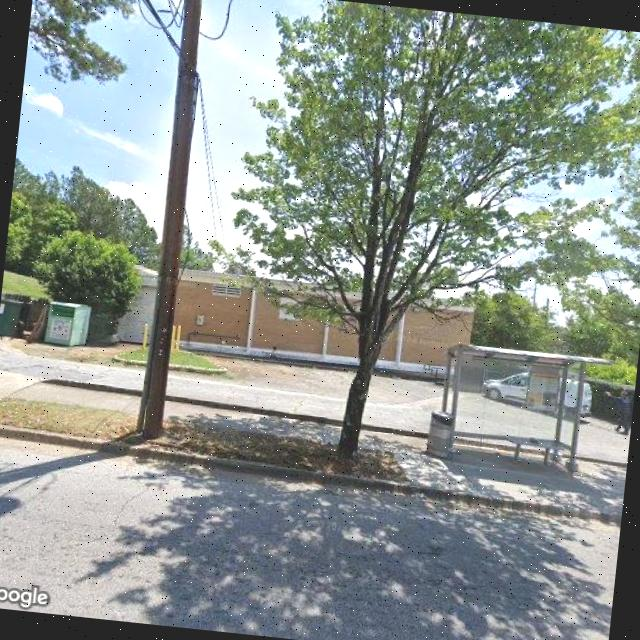seating: (498, 434, 573, 468)
shelter: (435, 342, 612, 478)
trash_can: (425, 410, 453, 458)
